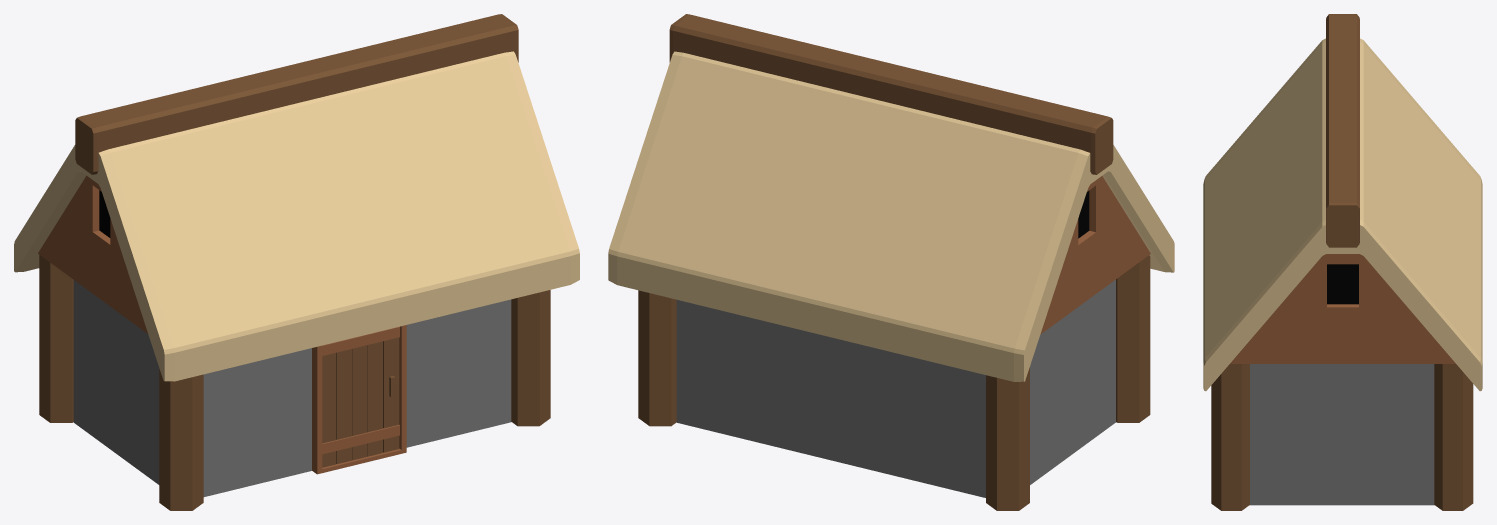
File: House_1.fbx
The picture shows the model from 3 angles, left to right: view 1: azimuth 30°, elevation 25°; view 2: azimuth 150°, elevation 25°; view 3: azimuth 270°, elevation 25°; orthographic projection. The views are drawn at different scales.
Parts seen in each view (by area): view 1: building_03; view 2: building_03; view 3: building_03.
Part boxes in pixels (x1,y1,x2,y2): building_03: [14, 14, 579, 510]; building_03: [608, 14, 1174, 510]; building_03: [1203, 14, 1482, 510].
Bounding box in the file's own units: 410 × 318 × 253.
